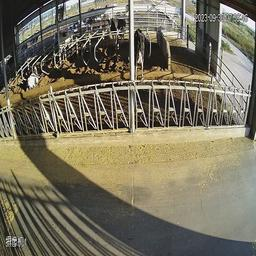cow: (103, 11, 127, 58), (133, 23, 149, 80), (18, 55, 42, 93), (51, 29, 73, 55)
